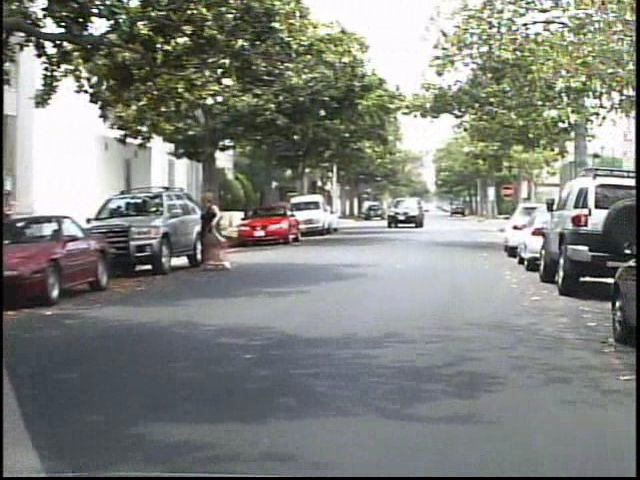person: (204, 189, 239, 277)
